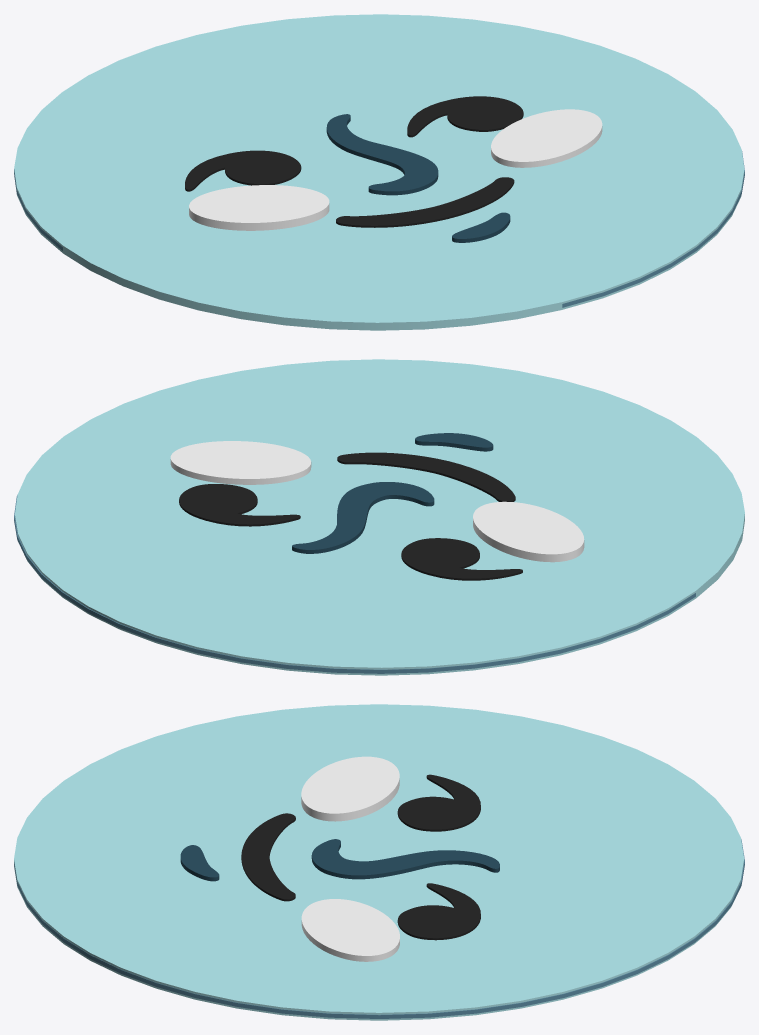
The model's file is emoji_u1f31a.glb.
The picture shows the model from 3 angles, top to bottom: view 1: azimuth 30°, elevation 25°; view 2: azimuth 150°, elevation 25°; view 3: azimuth 270°, elevation 25°; orthographic projection.
Visible parts, largest first — view 1: emoji_u1f31a; view 2: emoji_u1f31a; view 3: emoji_u1f31a.
Boxes of the visible parts, x1,y1,x2,y2 form: emoji_u1f31a: (14, 14, 744, 330); emoji_u1f31a: (14, 359, 744, 675); emoji_u1f31a: (14, 704, 744, 1020).
Size of the model in its own units: 0.0339 by 0.0012 by 0.0339.
